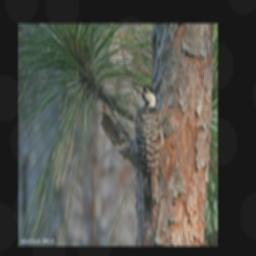Woodpecker: (131, 84, 172, 230)
